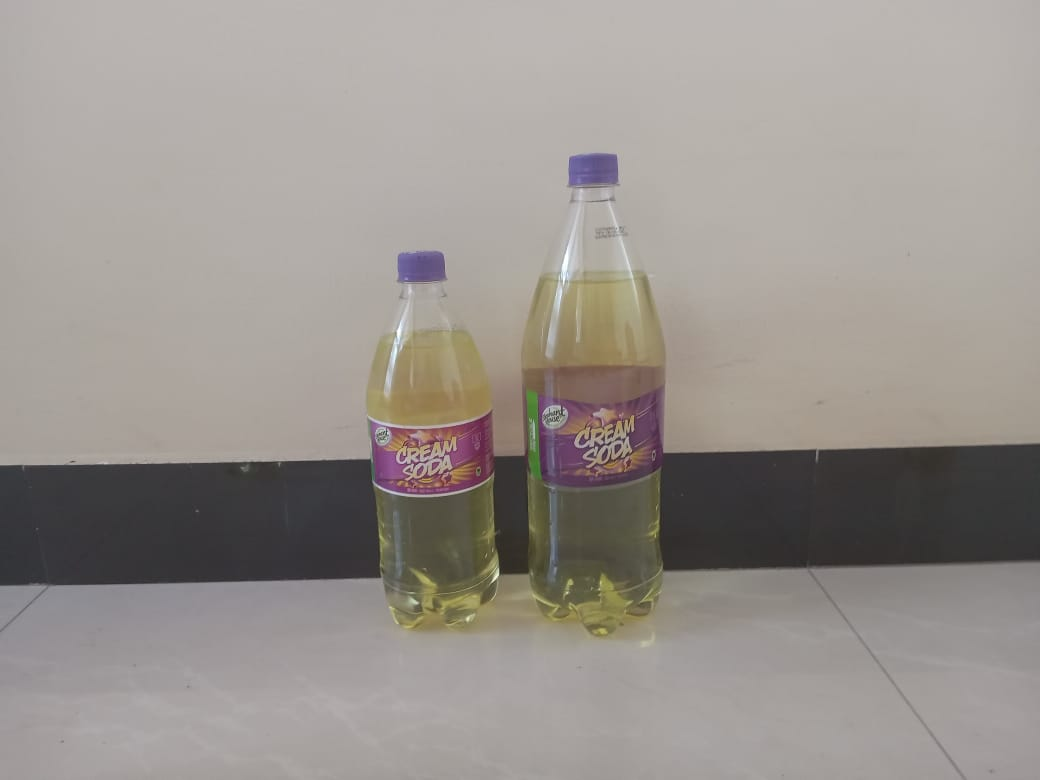L: (522, 155, 664, 636)
M: (367, 251, 500, 636)
